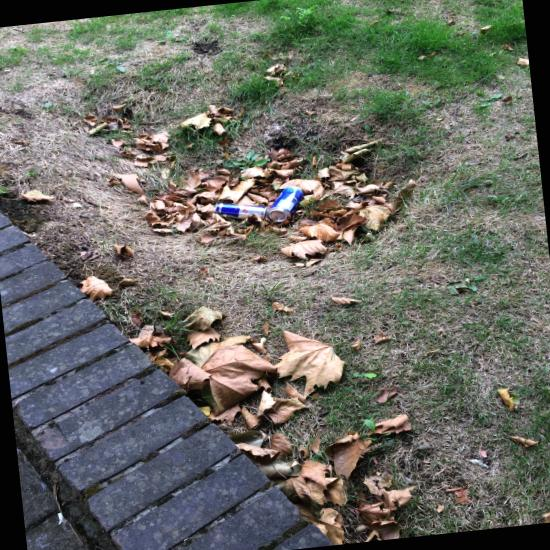Cigarette: (273, 47, 282, 60), (190, 20, 195, 36), (76, 43, 90, 47)
Plastic film: (83, 479, 144, 528), (147, 291, 174, 318), (282, 59, 295, 65)
